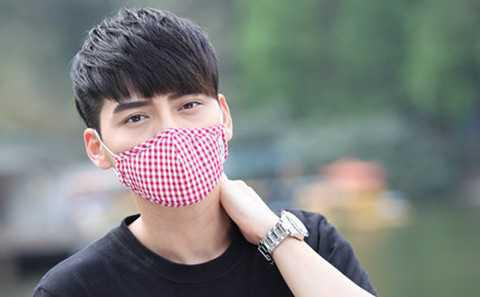OK: (113, 85, 228, 205)
